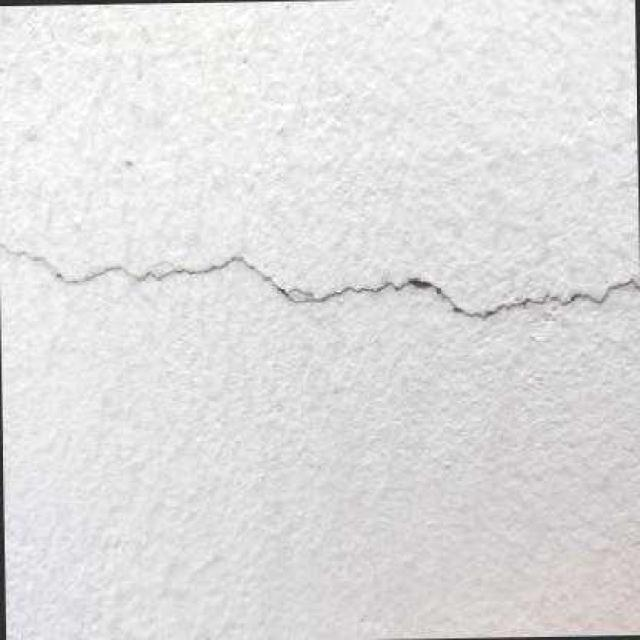D00: (0, 244, 640, 317)
